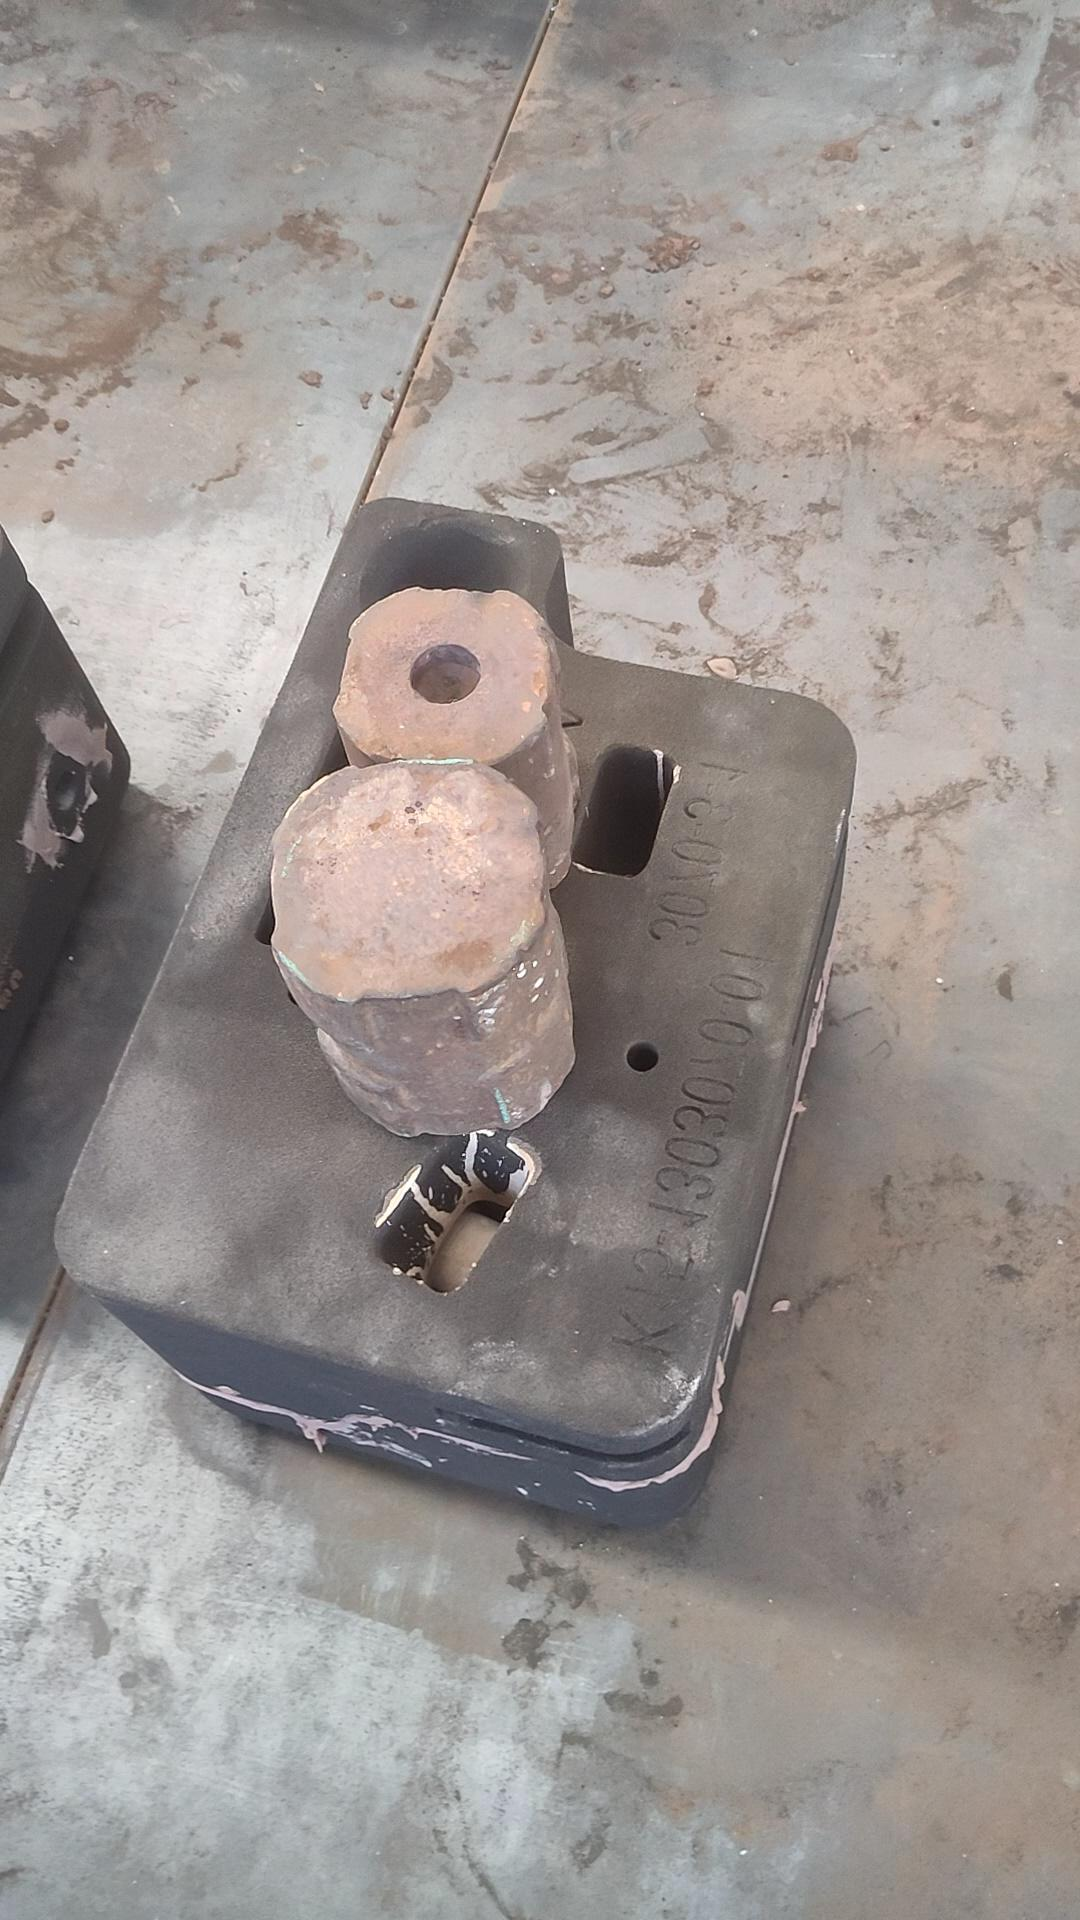pouring hole: (356, 517, 531, 653)
